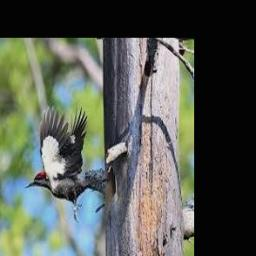Woodpecker: (24, 106, 110, 222)
